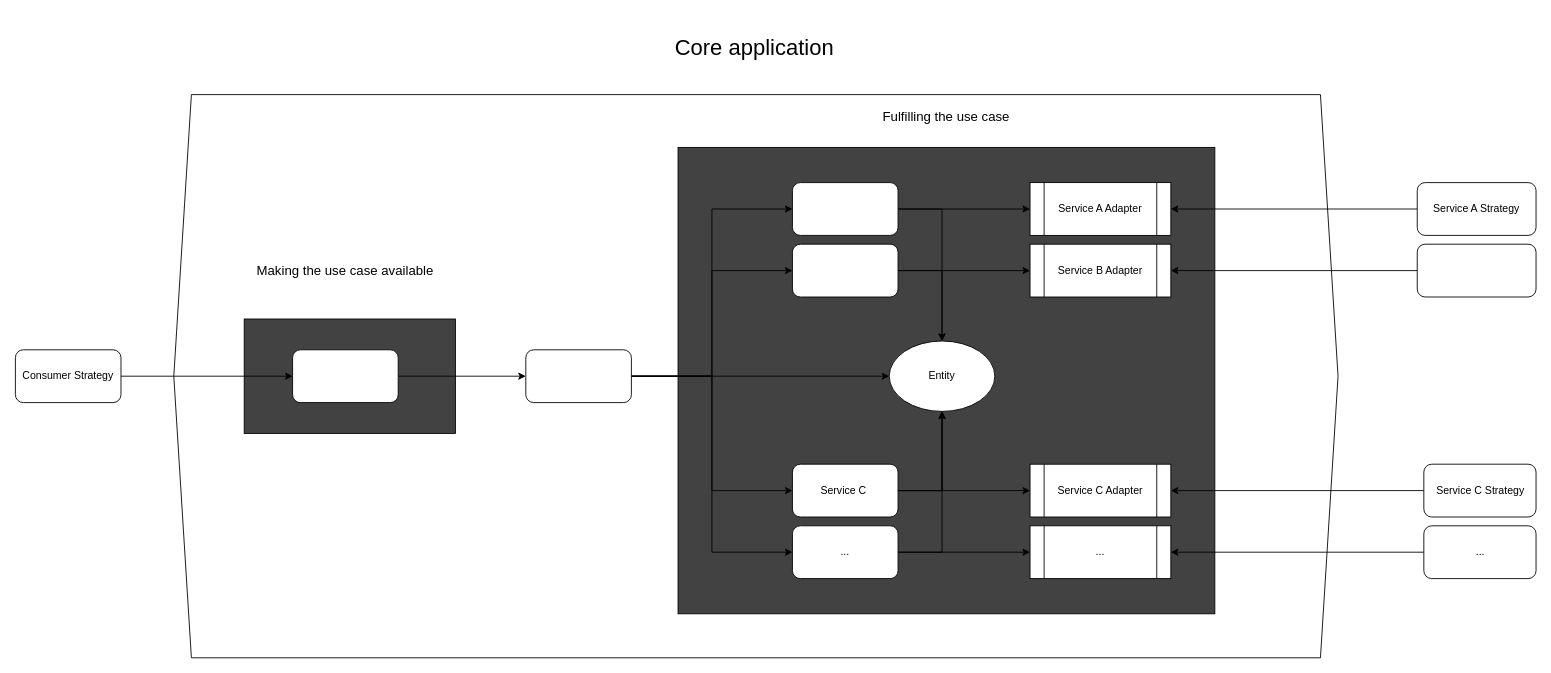
Some shapes in this 1551 by 673 pixel diagram are drawn without their labels. Each missing label, with the centre of its shape:
"Dispatcher" belongs at (x=345, y=376).
"Service A" belongs at (x=845, y=208).
"Service B" belongs at (x=845, y=270).
"Service B Strategy" belongs at (x=1476, y=270).
"Use Case" belongs at (x=578, y=376).
